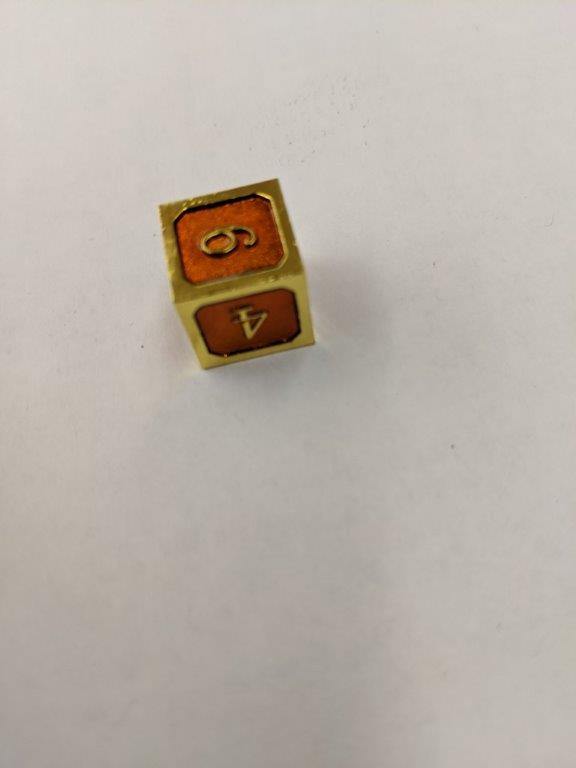d6-6: (159, 177, 316, 370)
